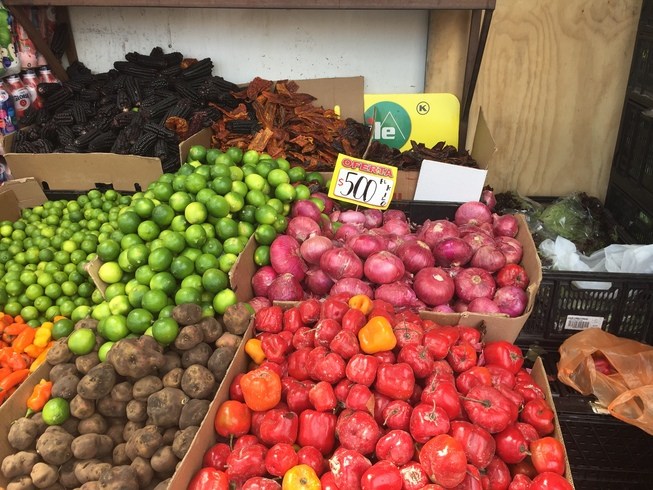precio: (329, 149, 400, 214)
